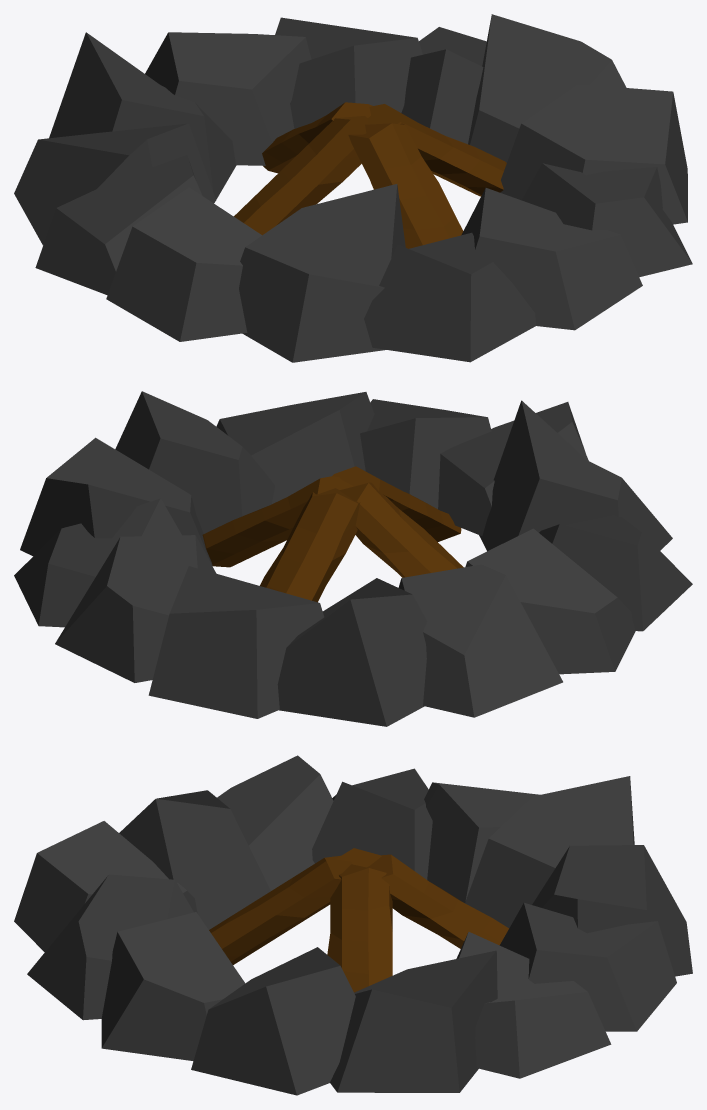
The model's file is toonFirePlace.fbx.
3 renders of one model, top to bottom at view 1: azimuth 30°, elevation 25°; view 2: azimuth 150°, elevation 25°; view 3: azimuth 270°, elevation 25°, orthographic. The views are drawn at different scales.
Parts seen in each view (by area): view 1: Cylinder; view 2: Cylinder; view 3: Cylinder.
Part boxes in pixels (x1=…): Cylinder: x1=14, y1=14, x2=692, y2=362; Cylinder: x1=14, y1=391, x2=692, y2=726; Cylinder: x1=14, y1=755, x2=692, y2=1095.
Size of the model in its own units: 135 by 29.89 by 137.
